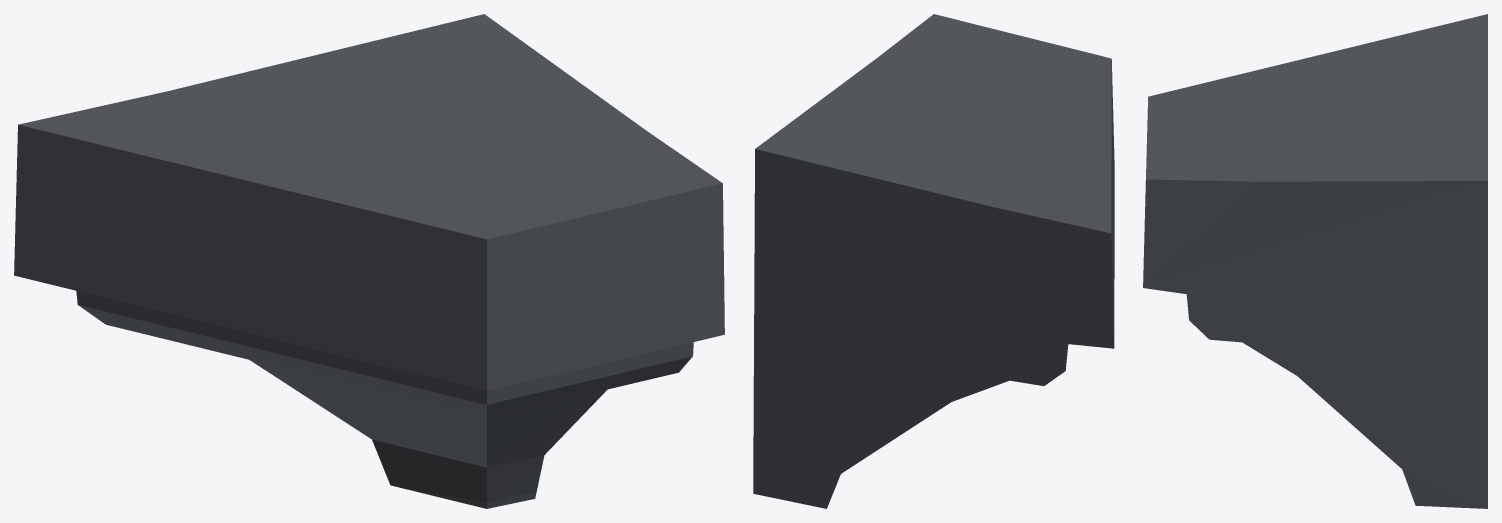
Rendered from MCastle_MasonryFixtures_08.FBX.
3 renders of one model, left to right at view 1: azimuth 30°, elevation 25°; view 2: azimuth 150°, elevation 25°; view 3: azimuth 270°, elevation 25°, orthographic. The views are drawn at different scales.
Parts seen in each view (by area): view 1: MCastle_MasonryFixtures_08_LOD0; view 2: MCastle_MasonryFixtures_08_LOD0; view 3: MCastle_MasonryFixtures_08_LOD0.
Part boxes in pixels (x1,y1,x2,y2): MCastle_MasonryFixtures_08_LOD0: [14, 14, 724, 508]; MCastle_MasonryFixtures_08_LOD0: [753, 14, 1114, 508]; MCastle_MasonryFixtures_08_LOD0: [1143, 14, 1487, 508].
Size of what is drawn, in the model's own units: 2.25 by 2.07 by 1.96.
